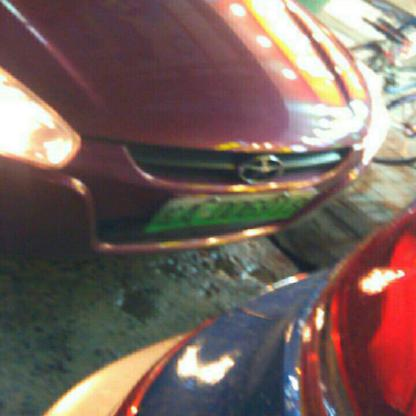lp: (144, 192, 318, 233)
